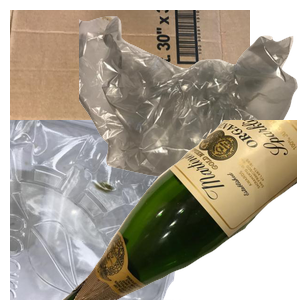cardboard: (10, 10, 250, 190)
glass: (60, 120, 300, 300)
plastic: (10, 120, 197, 300)
trash: (79, 14, 300, 194)
